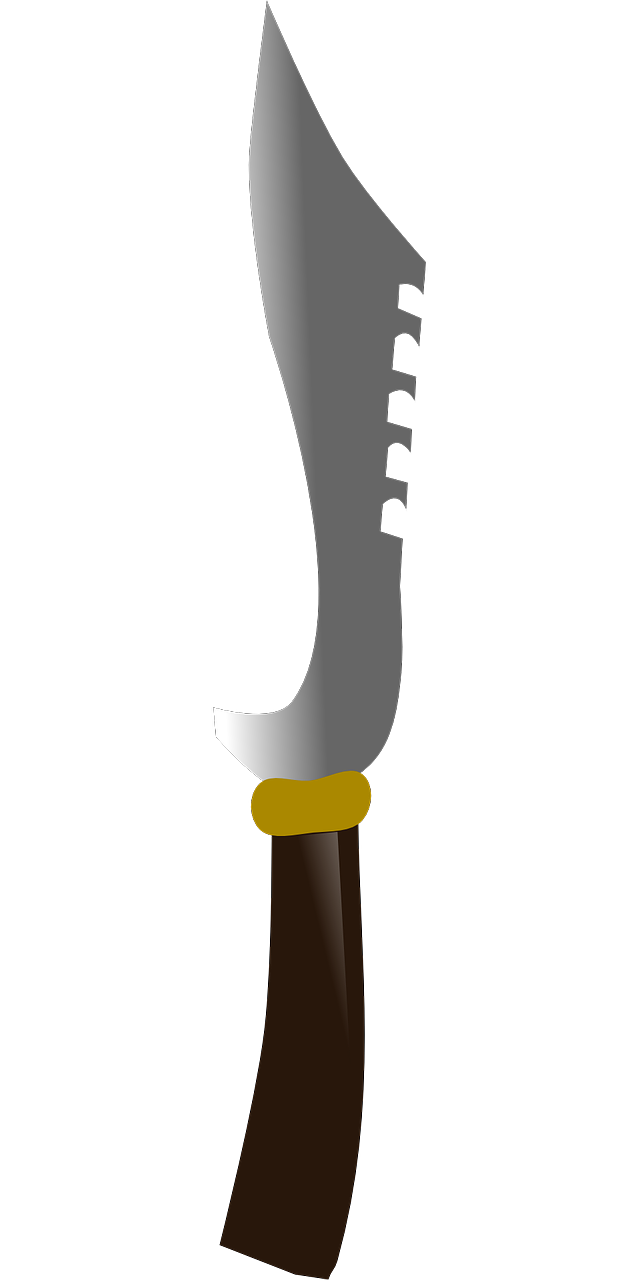knife: (209, 2, 415, 1280)
